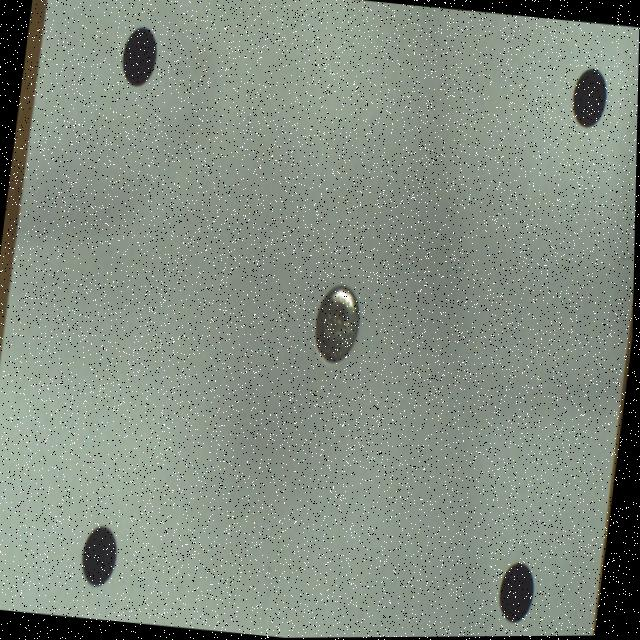space: (84, 525, 120, 587), (501, 564, 537, 623), (572, 68, 607, 128), (122, 26, 157, 86)
tail1bath: (316, 285, 361, 362)
